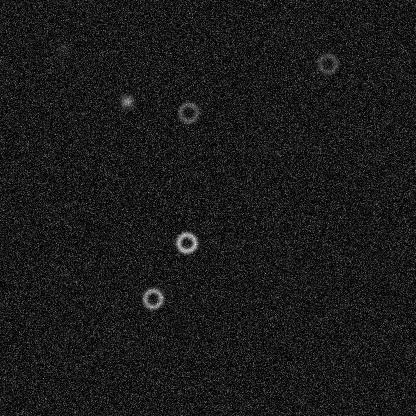Ring: (315, 51, 339, 75), (140, 286, 164, 310), (176, 100, 200, 124), (174, 230, 198, 254)
Spot: (118, 93, 134, 109), (54, 39, 70, 55)
